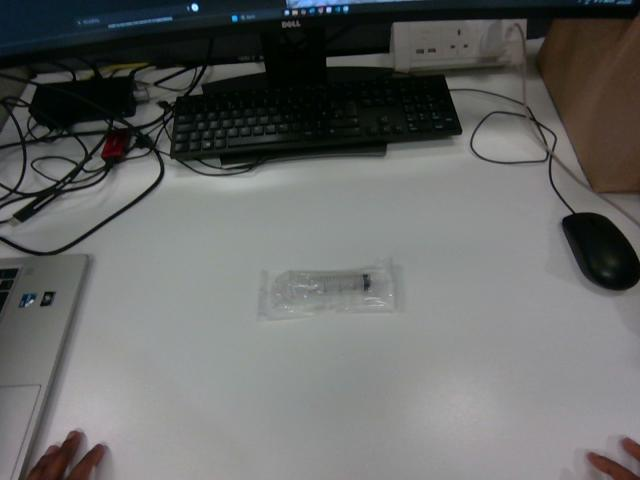syringe: (258, 261, 395, 319)
